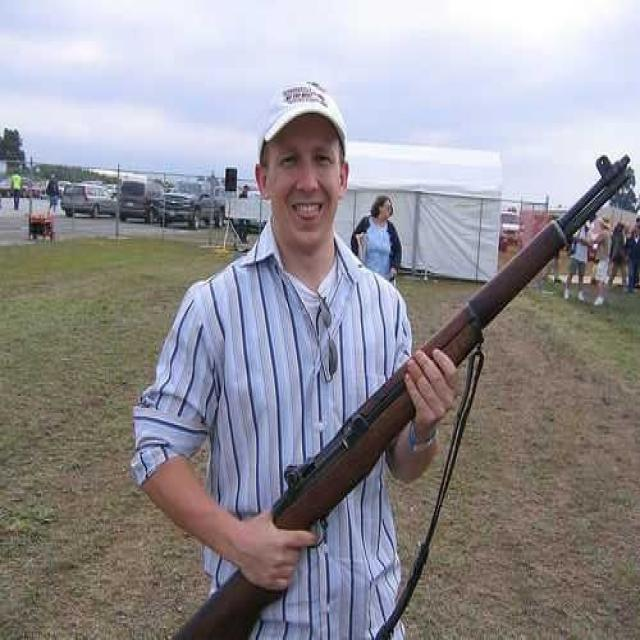heavyweapon: (141, 148, 637, 640)
